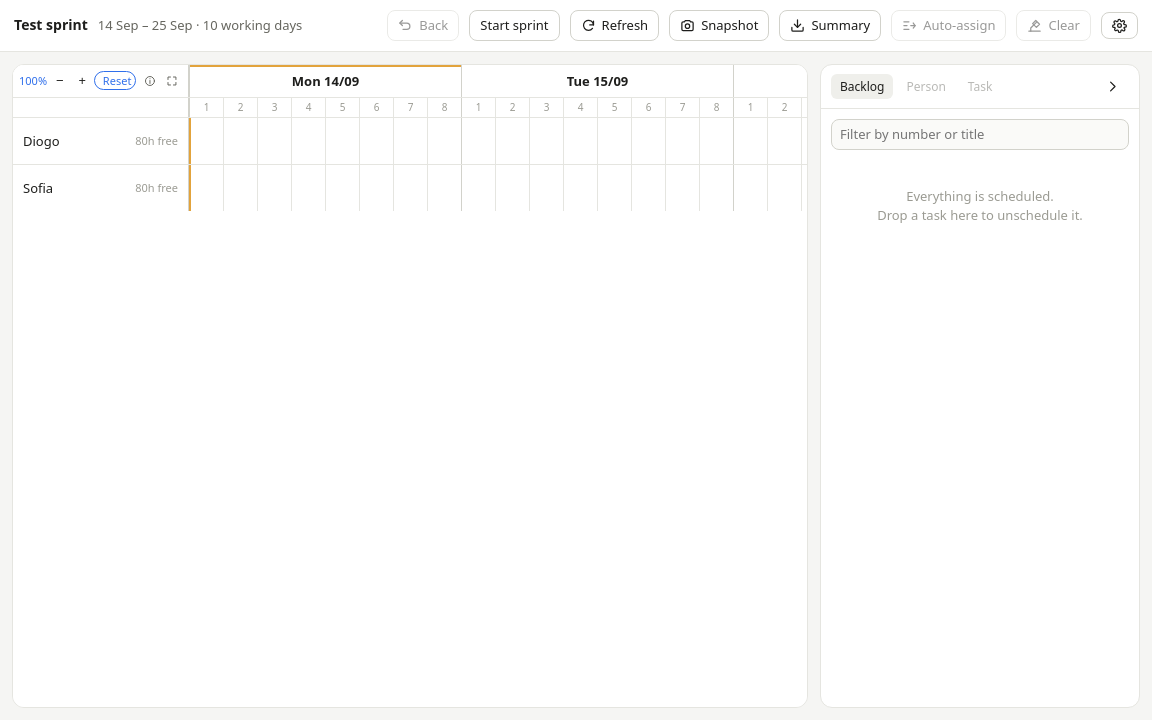
a refresh that fails › without details, the dialog still gives the message
expect the text "Diogo" is shown: met, box [23,132,60,151]
Click the button "Refresh": (614, 25) [570,10,659,41]
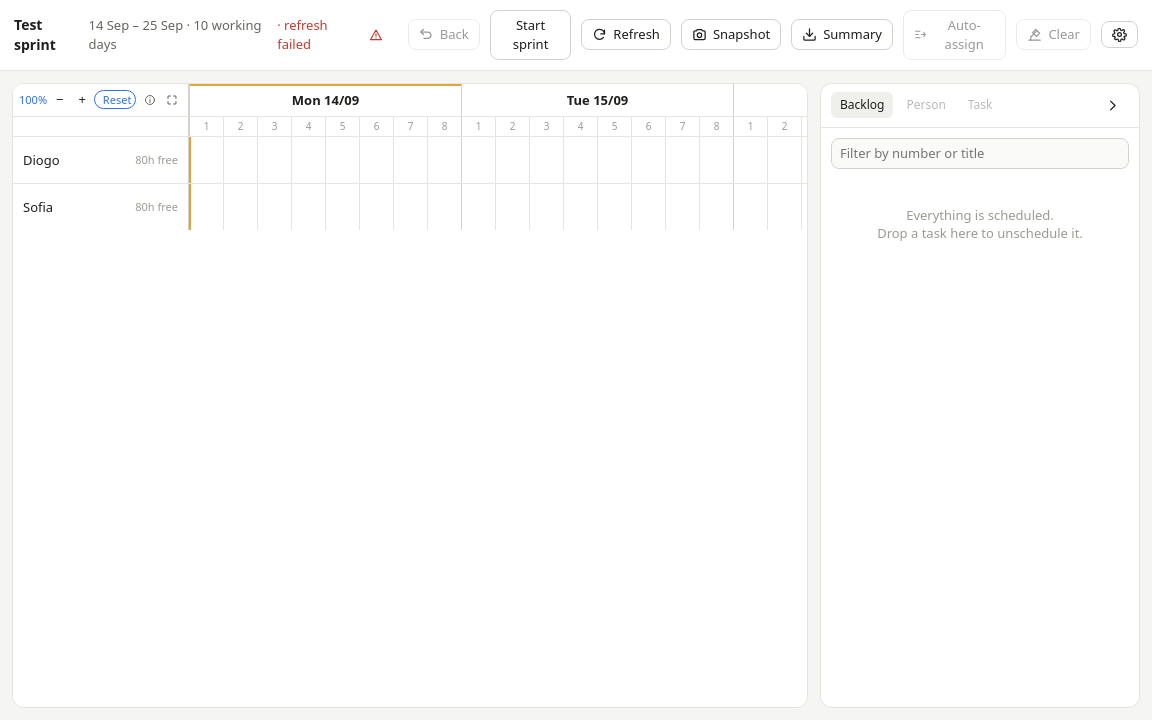
Click the button named "Why the refresh failed": (376, 35) [364,25,388,45]
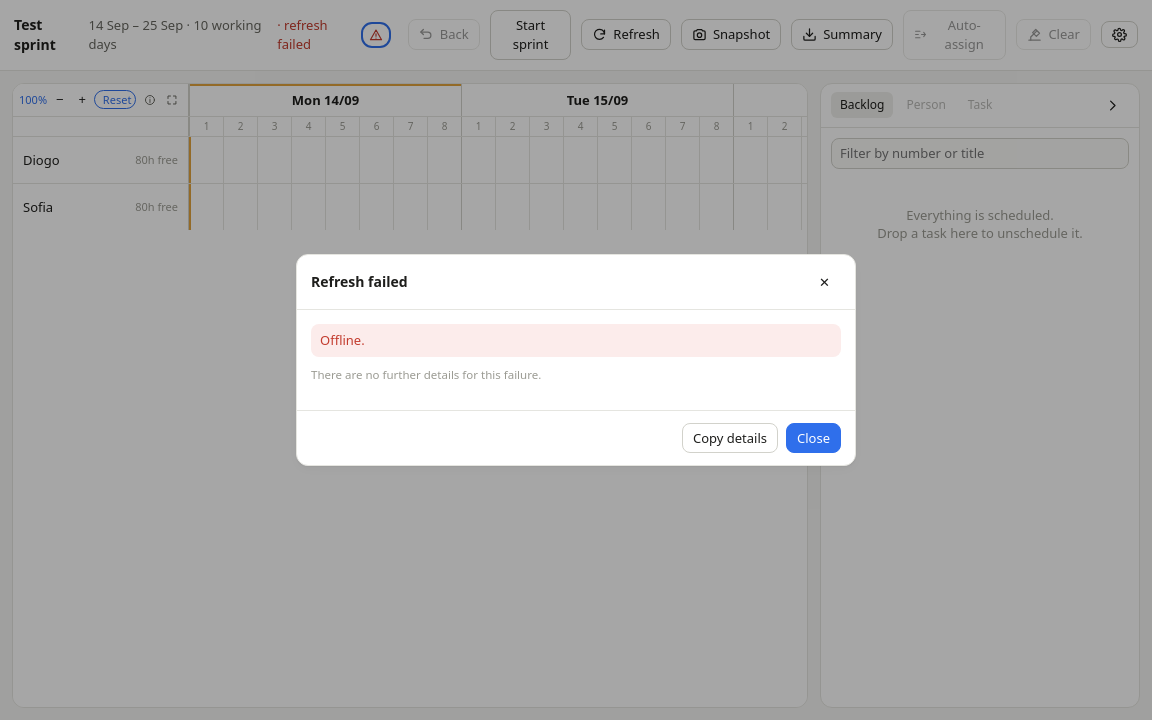
expect the text "Offline." is shown: met, box [311,324,841,357]
expect the text "There are no further details for this failure." is shown: met, box [311,367,541,382]
